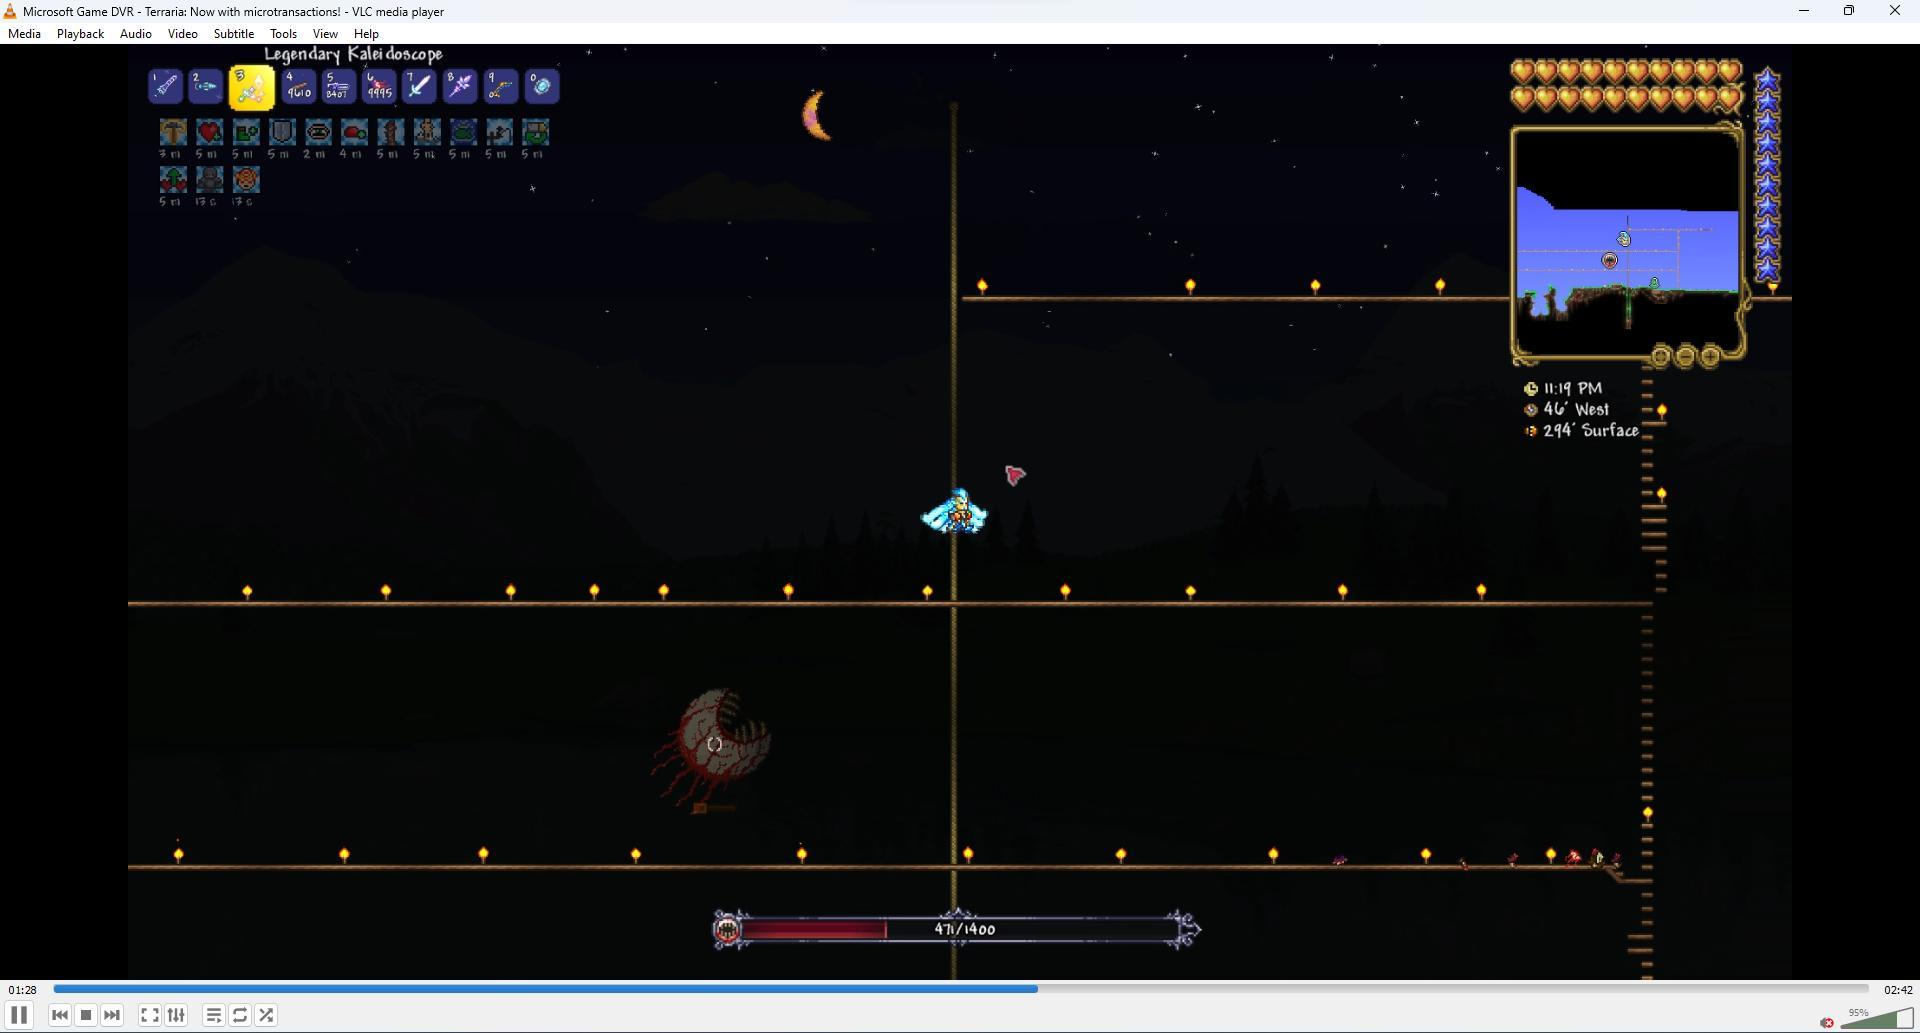eyeC: (647, 677, 774, 812)
